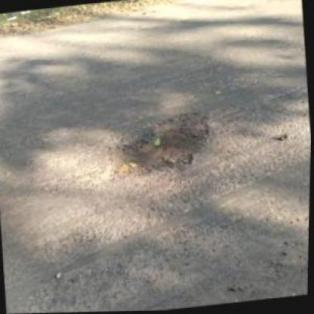Hueco: (103, 108, 217, 182)
